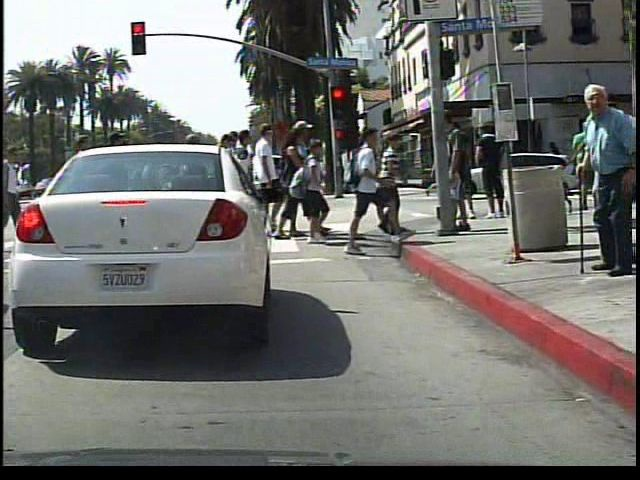person: (551, 81, 636, 286), (431, 138, 432, 200)
